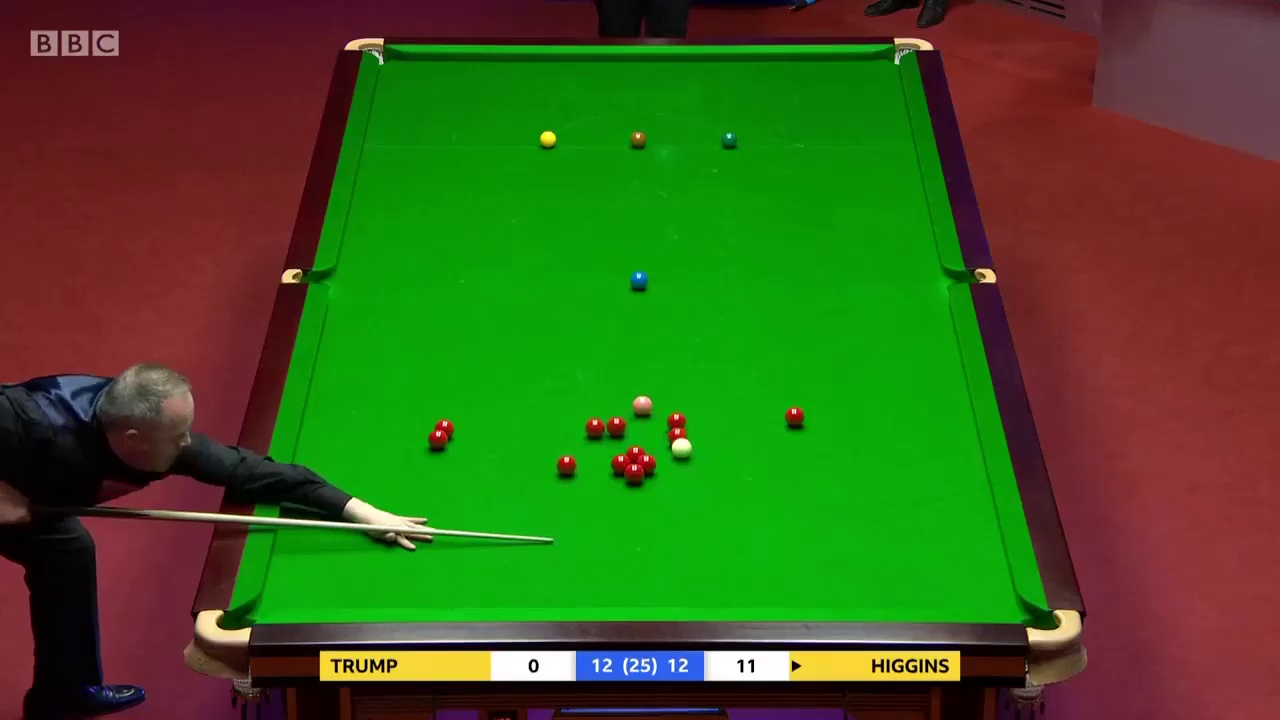blue: (631, 272, 650, 289)
brown: (630, 130, 646, 146)
green: (719, 130, 740, 149)
pink: (632, 396, 653, 417)
red: (554, 453, 577, 477), (622, 462, 645, 483), (428, 430, 447, 452), (584, 418, 606, 436), (606, 414, 626, 433), (785, 408, 804, 426), (668, 412, 684, 428)
white: (670, 437, 694, 459)
yellow: (538, 130, 559, 149)
